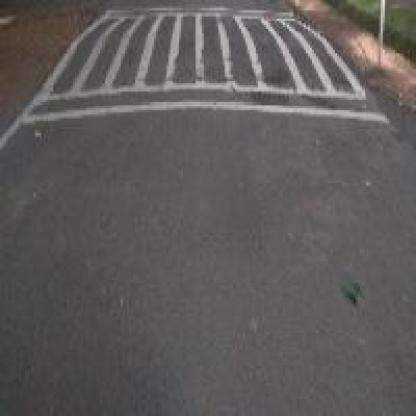Speed Bump: (23, 8, 362, 121)
